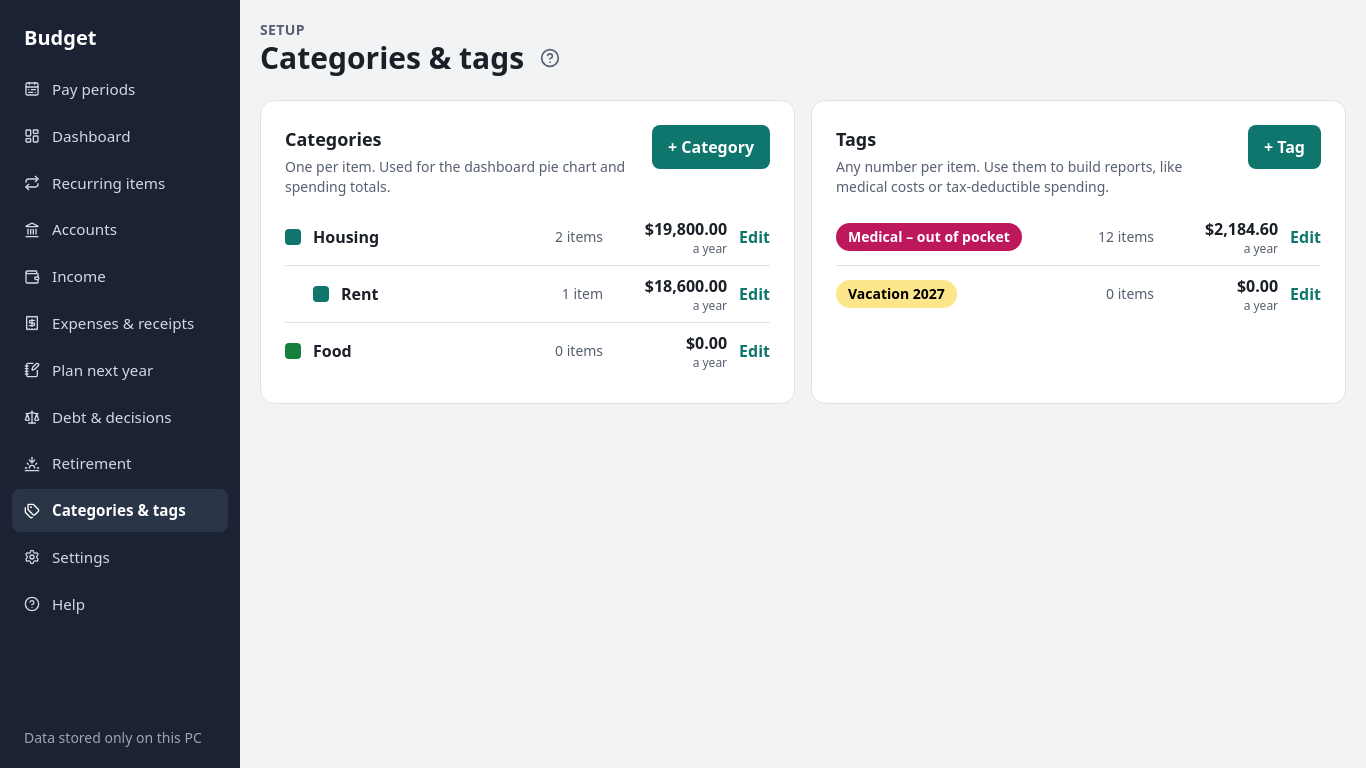
Test case: categories & tags screen › renames a category and shows the backend's message when the name is taken
Click the button "Edit Food".
click(332, 351)  # box [285,323,770,379]
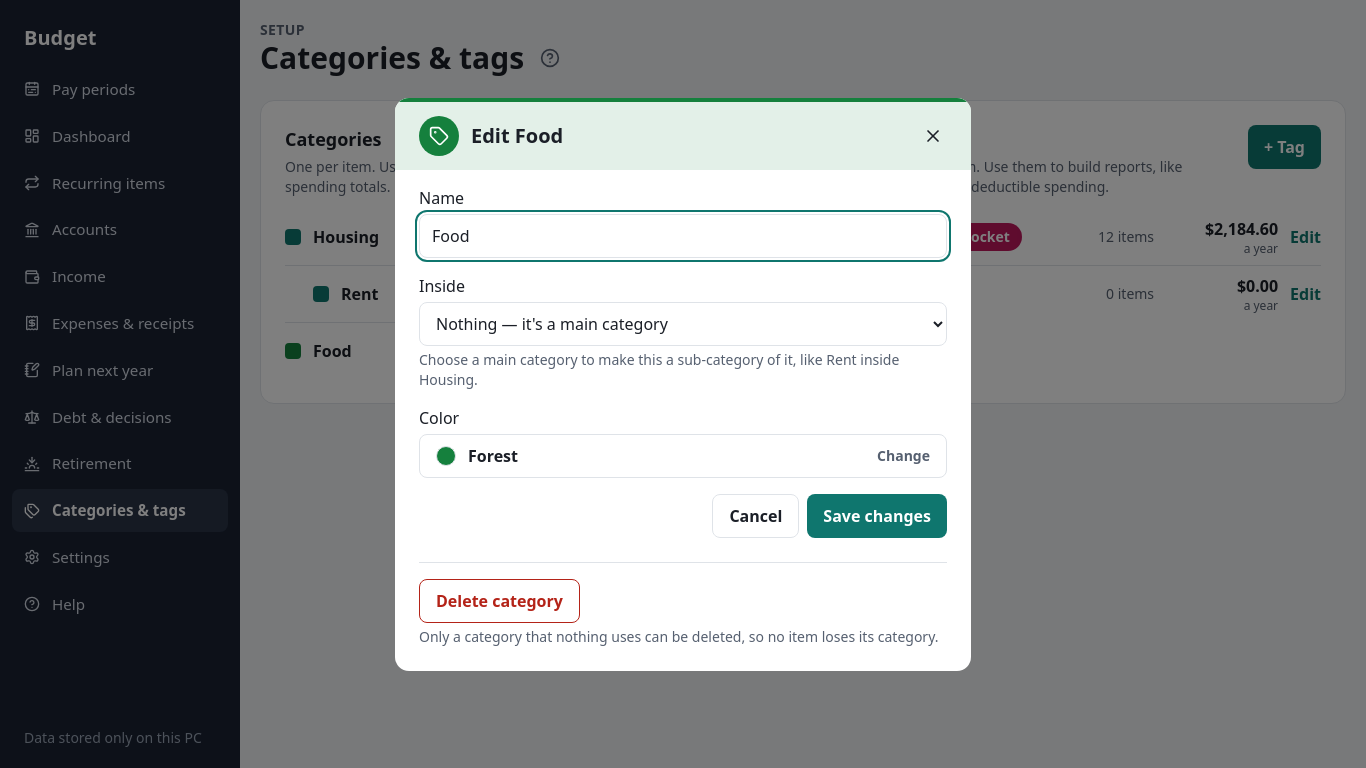
Replace the text in the field labelled "Name" with "Housing" at (683, 236), box [419,214,947,258]
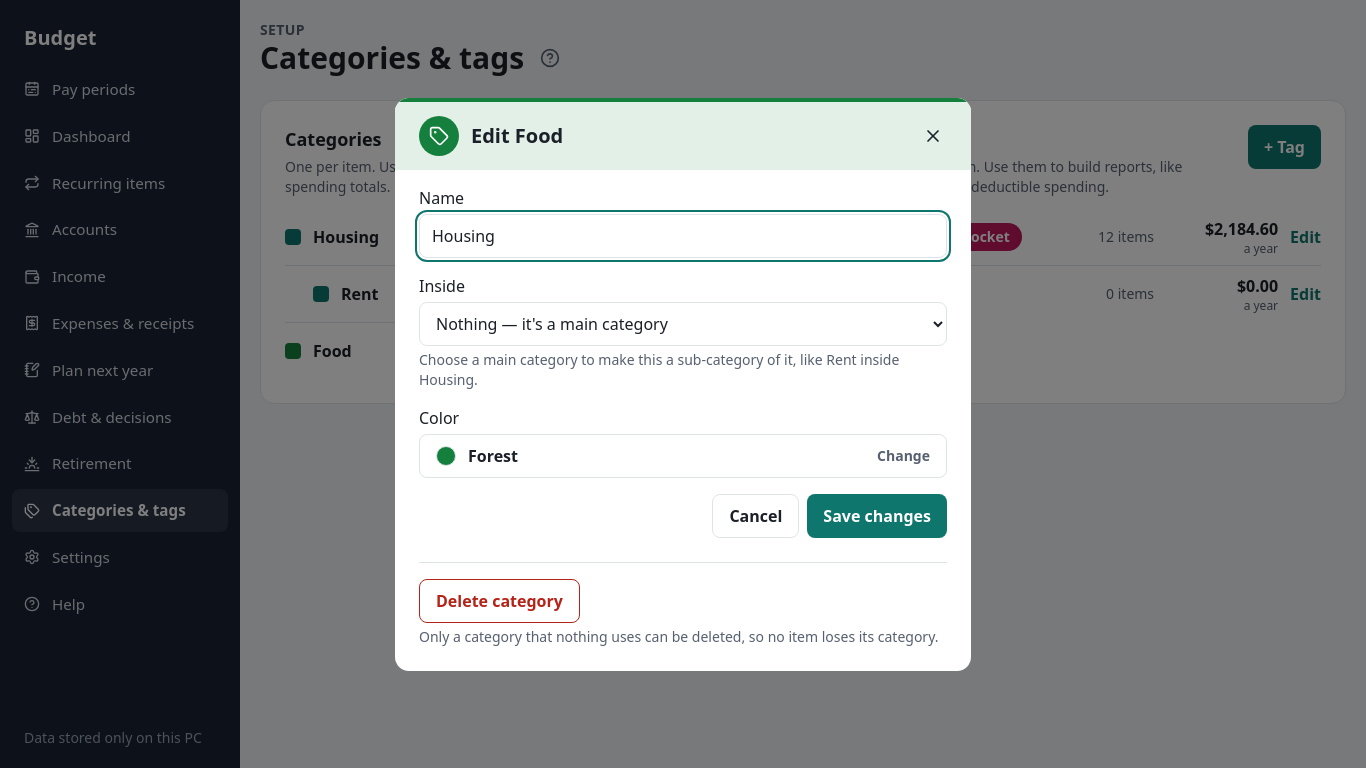
Click the button "Save changes".
click(877, 516)  # box [807,494,947,538]
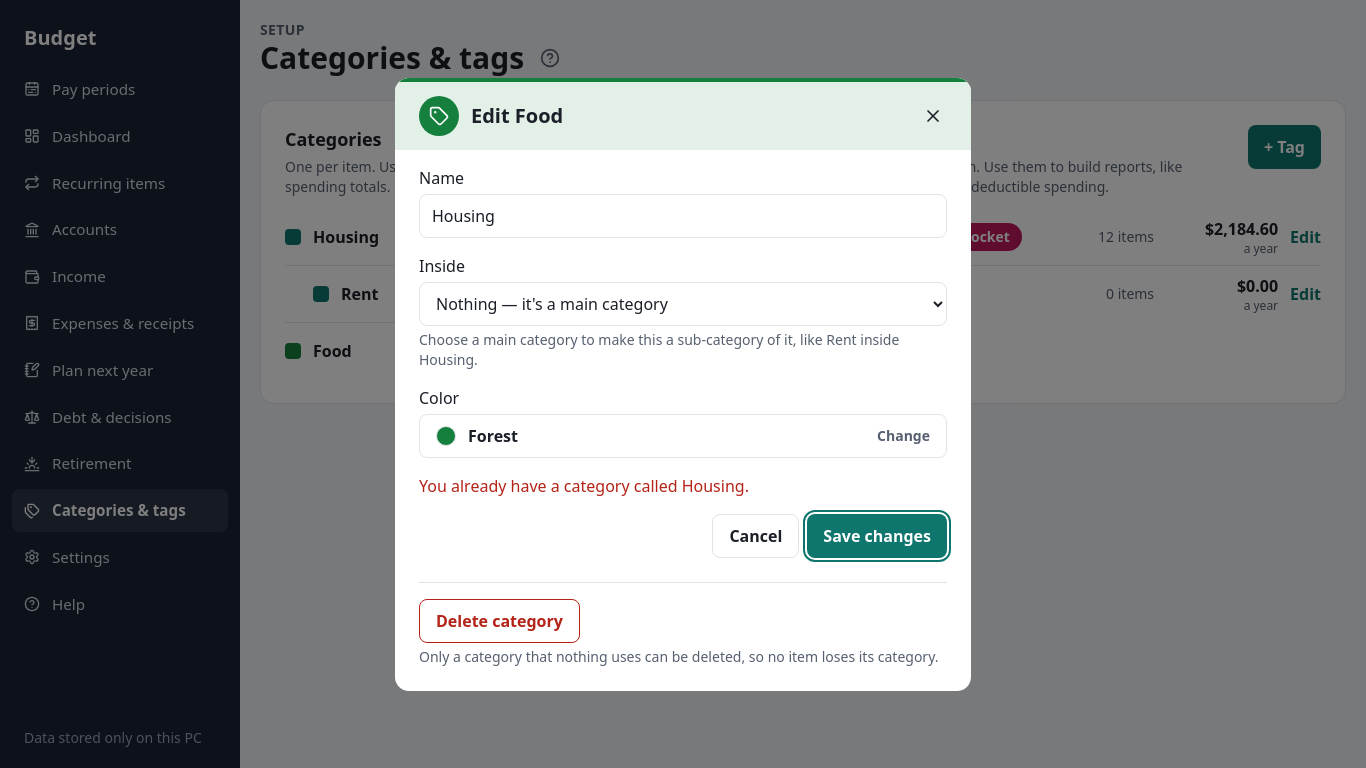
expect the message reads "You already have a category called Housing.": met, box [419,474,749,496]
Replace the text in the field labelled "Name" with "Groceries" at (683, 216), box [419,194,947,238]
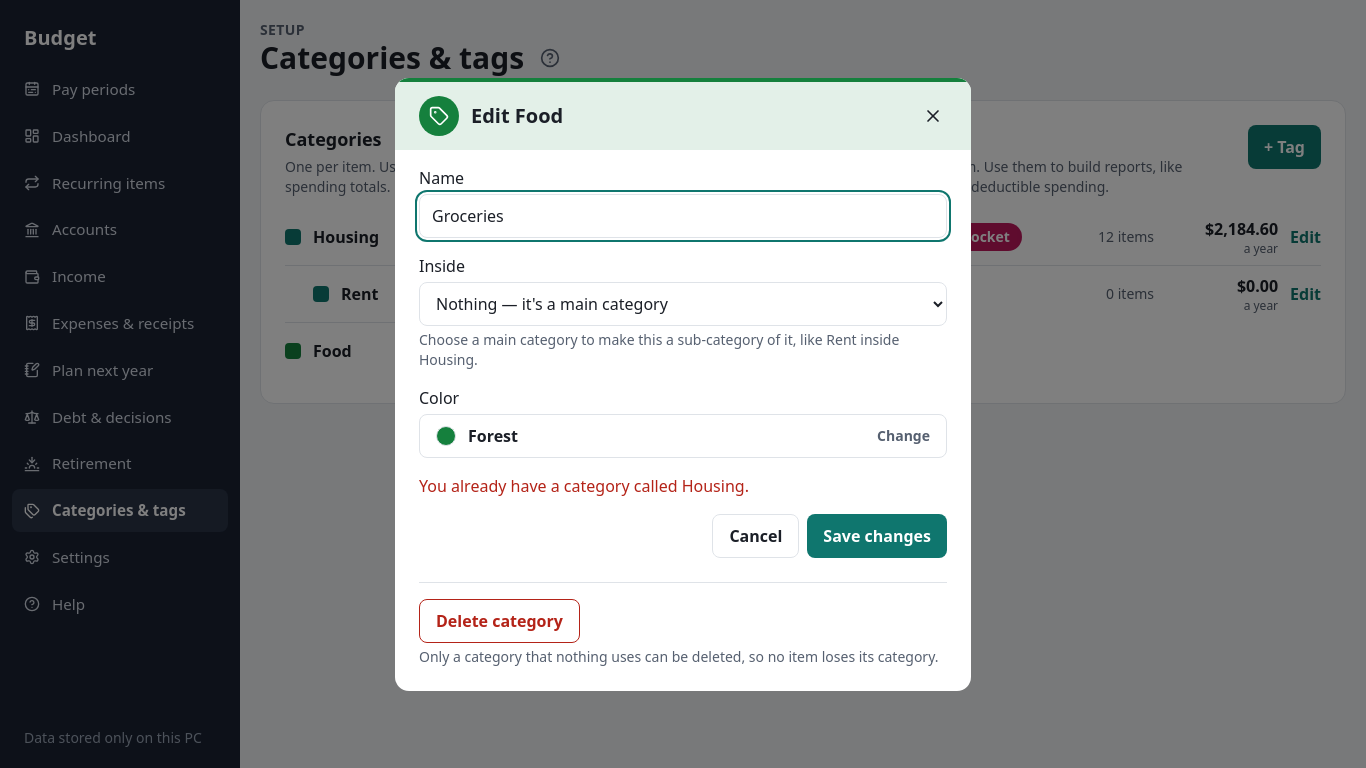
Click the button "Save changes".
click(877, 536)  # box [807,514,947,558]
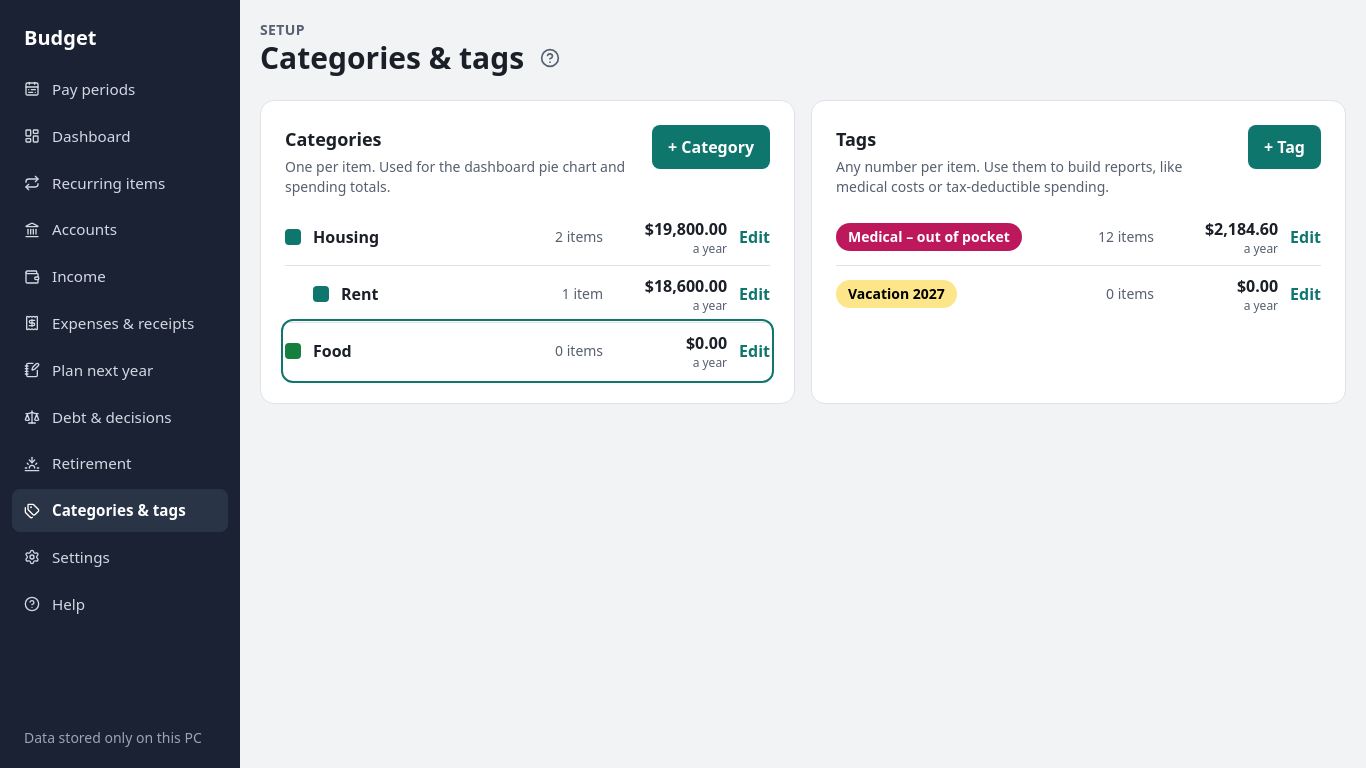
expect the dialog is gone: met
